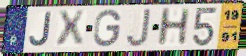5: (191, 6, 219, 47)
G: (92, 8, 123, 49)
H: (155, 7, 193, 48)
J: (125, 7, 153, 48), (28, 11, 53, 48)
X: (56, 8, 86, 49)
